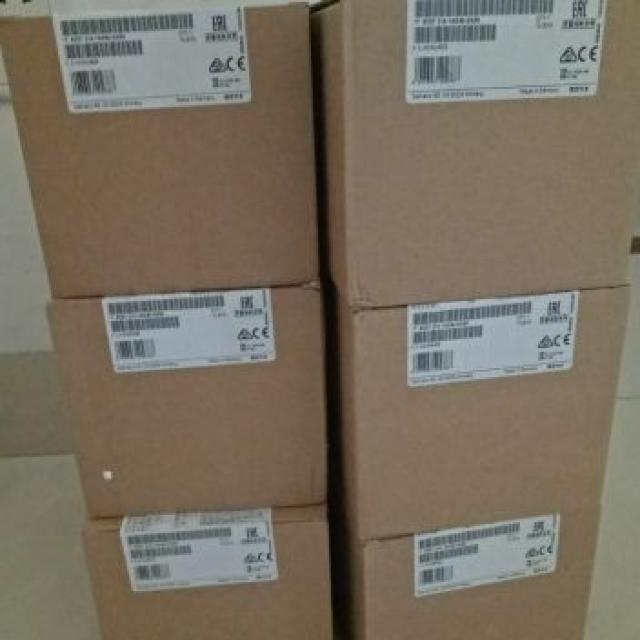box: (323, 278, 628, 543), (43, 285, 329, 519), (331, 509, 600, 638), (80, 504, 333, 638)
